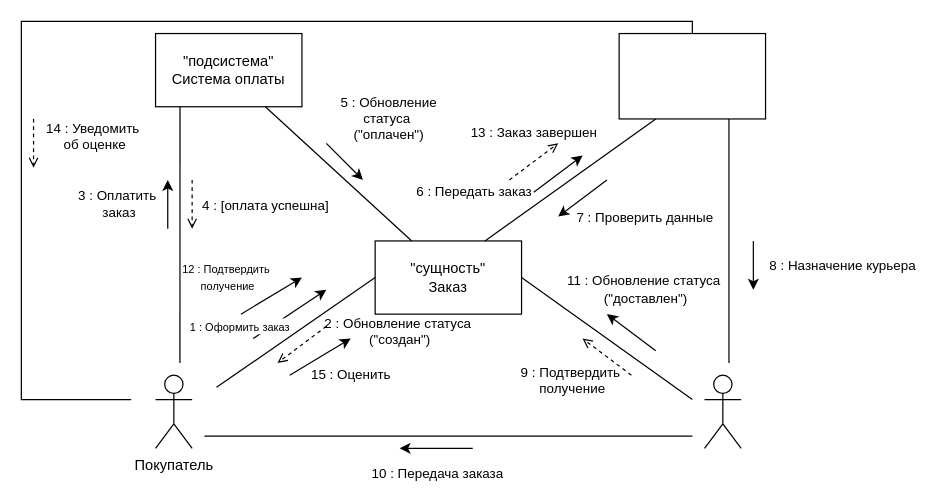
The diagram is 936 pixels wide and 503 high, and some of its shapes have lost their labels. The shapes that lost their labels are listed below. From the top down, each one's box as (x1, y1, x2, y2) in pixels, then its label:
(618, 32, 766, 119): "подсистема" Система управления заказами
(703, 374, 741, 448): Курьер
